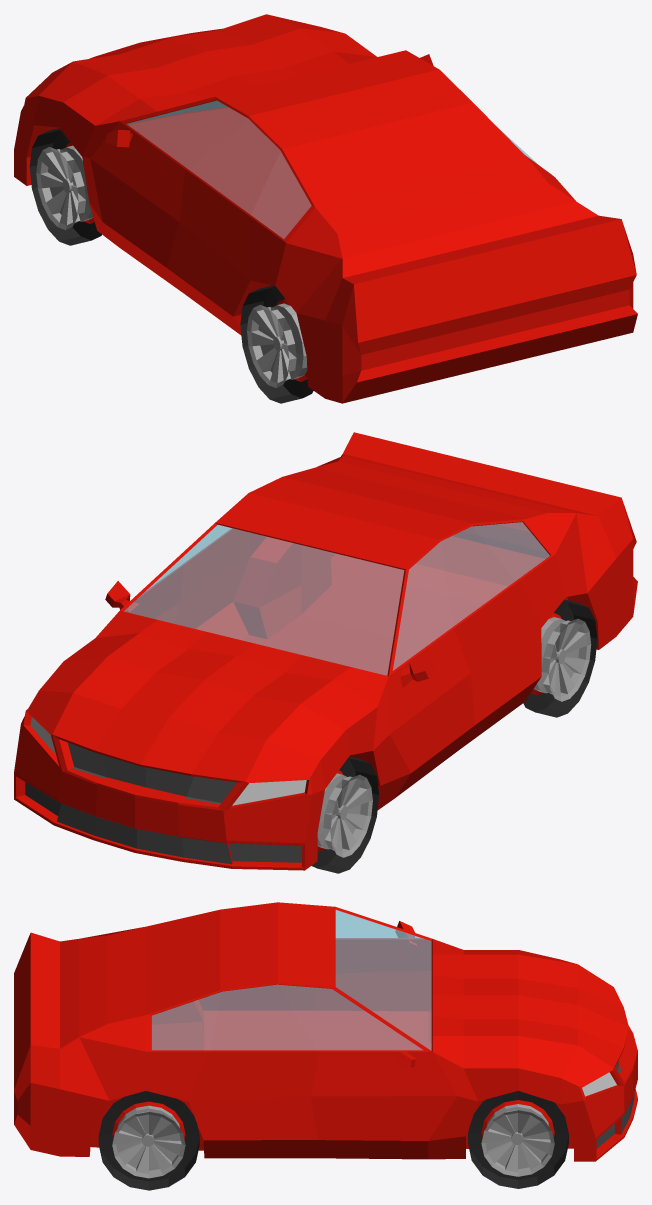
File: red_car.fbx
3 renders of one model, top to bottom at view 1: azimuth 30°, elevation 25°; view 2: azimuth 150°, elevation 25°; view 3: azimuth 270°, elevation 25°, orthographic. The views are drawn at different scales.
Visible parts, largest first — view 1: Cube; view 2: Cube; view 3: Cube.
Boxes of the visible parts, box(x1,y1,x2,y2) form: Cube: box(14, 14, 637, 403); Cube: box(14, 432, 637, 873); Cube: box(14, 902, 637, 1190).
Size of what is drawn, in the model's own units: 228 by 145 by 442.
